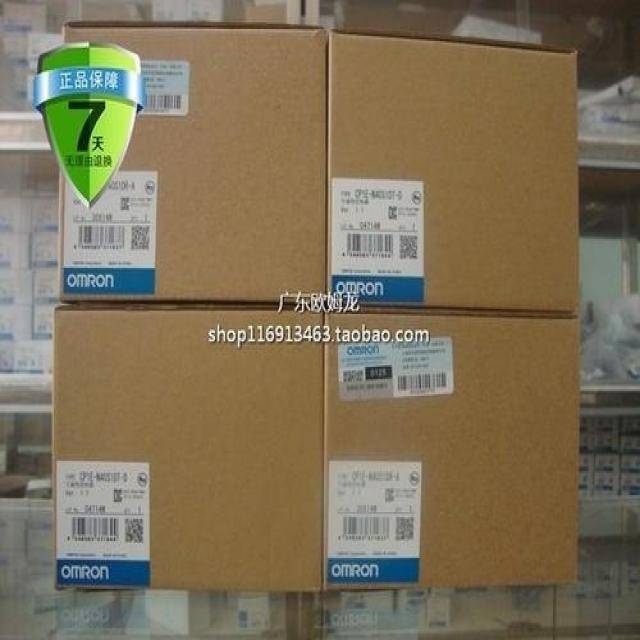Carton: (59, 22, 324, 300), (55, 312, 320, 589), (328, 36, 577, 311), (321, 312, 573, 580)
